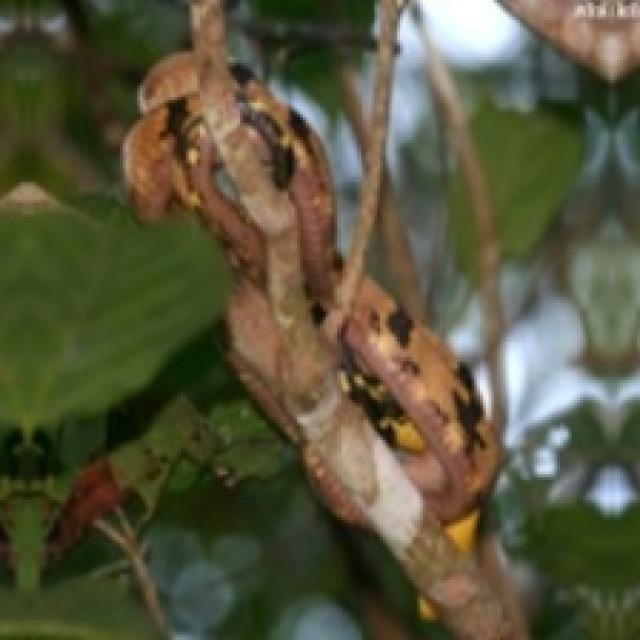dog-toothed cat snake: (123, 0, 526, 637), (123, 0, 497, 543)
